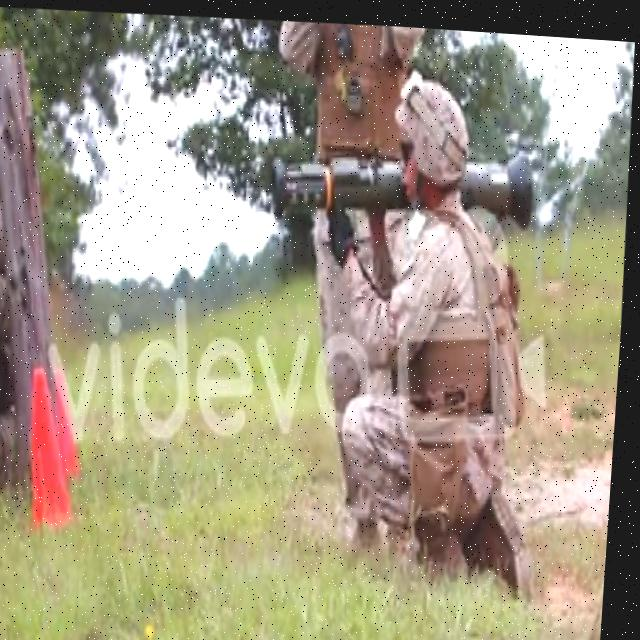rocket: (265, 124, 539, 252)
